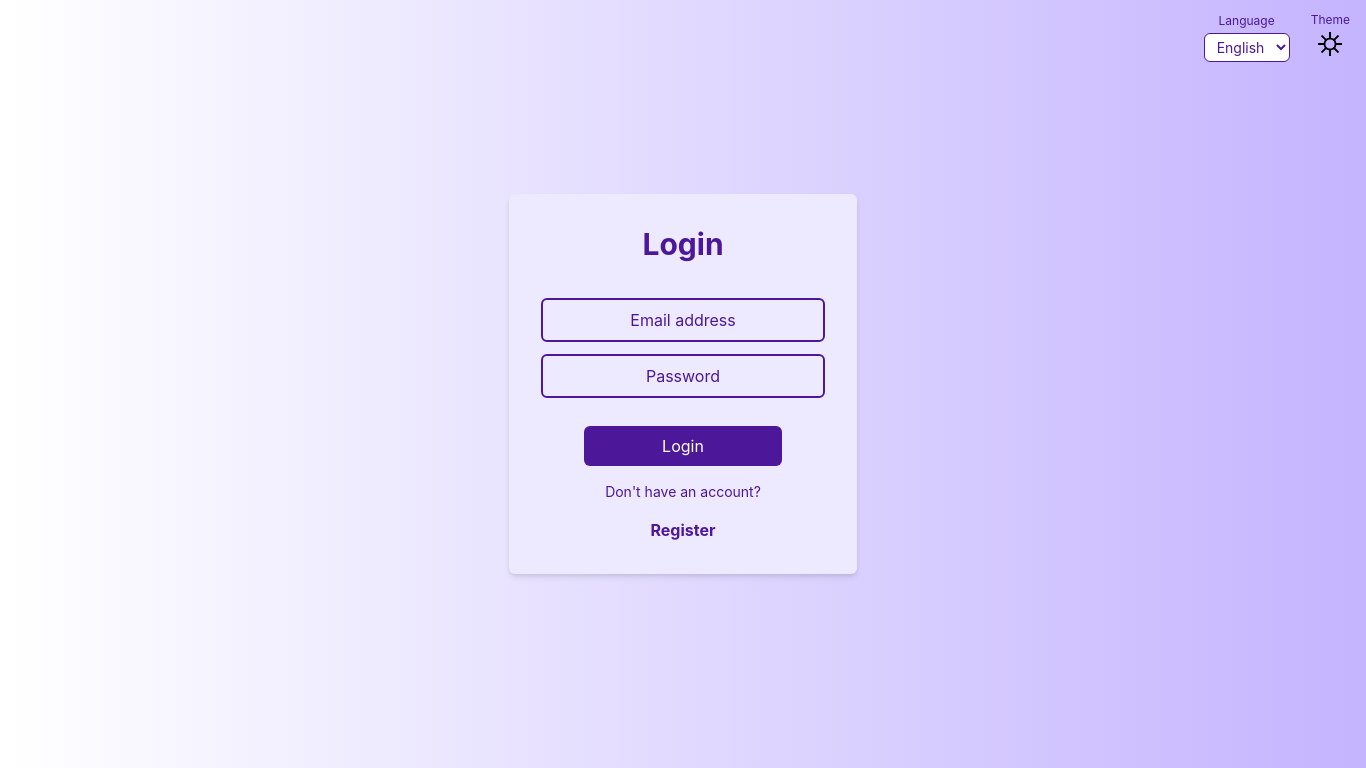
LoginPage tests › error should disappear after changing input values
This screenshot has width=1366, height=768.
Type "test@example.com" into the field with placeholder "Email address" at (683, 320), box top-left (541, 298), bottom-right (825, 342)
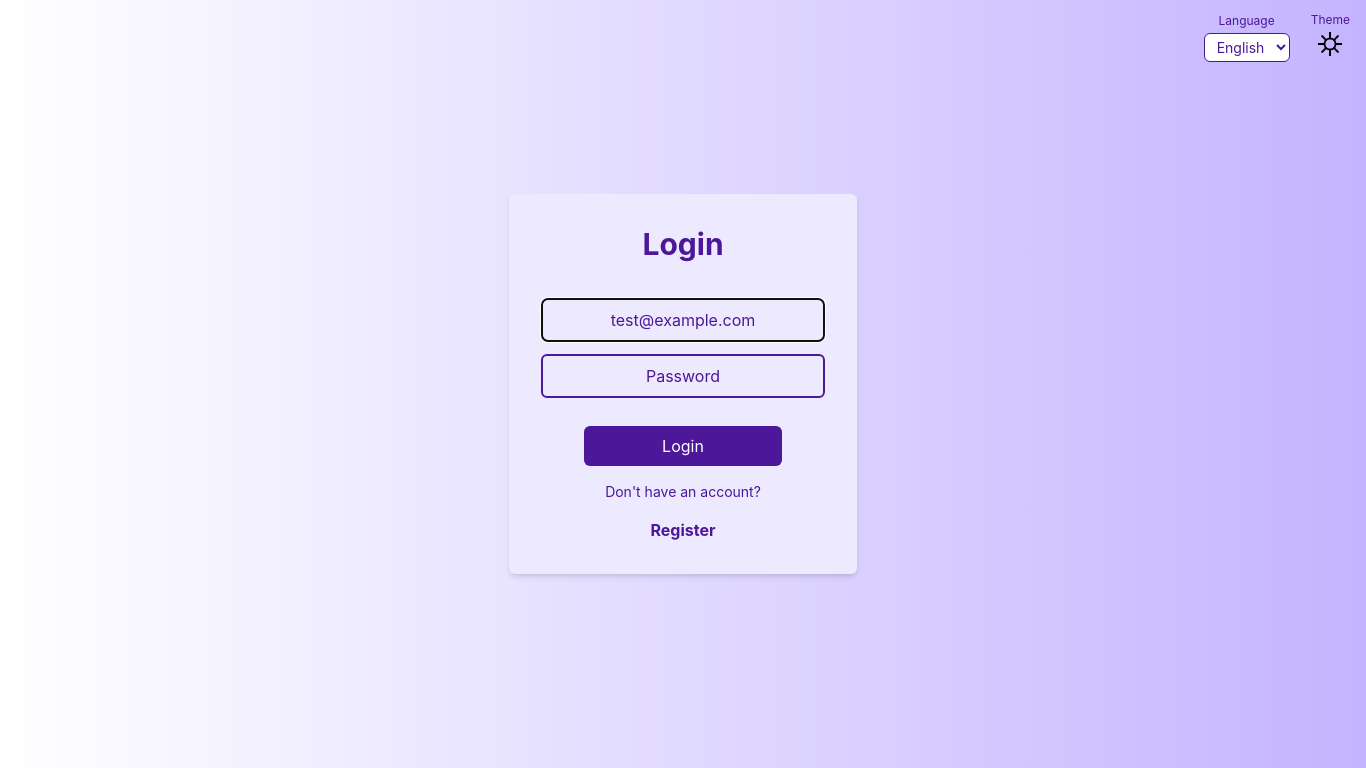
Type "invalidpassword" into the password field with placeholder "Password" at (683, 376), box top-left (541, 354), bottom-right (825, 398)
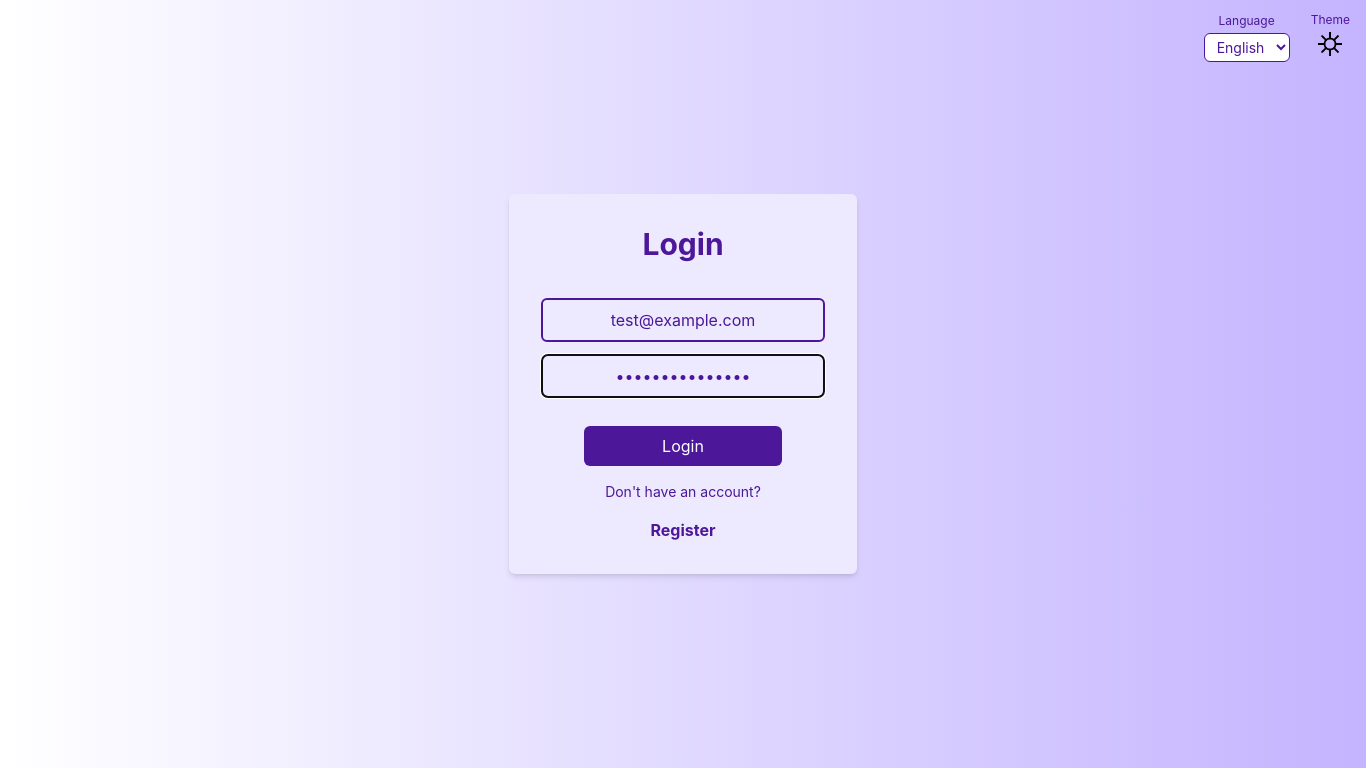
Click the button "Login" at (683, 446), box top-left (584, 426), bottom-right (782, 466)
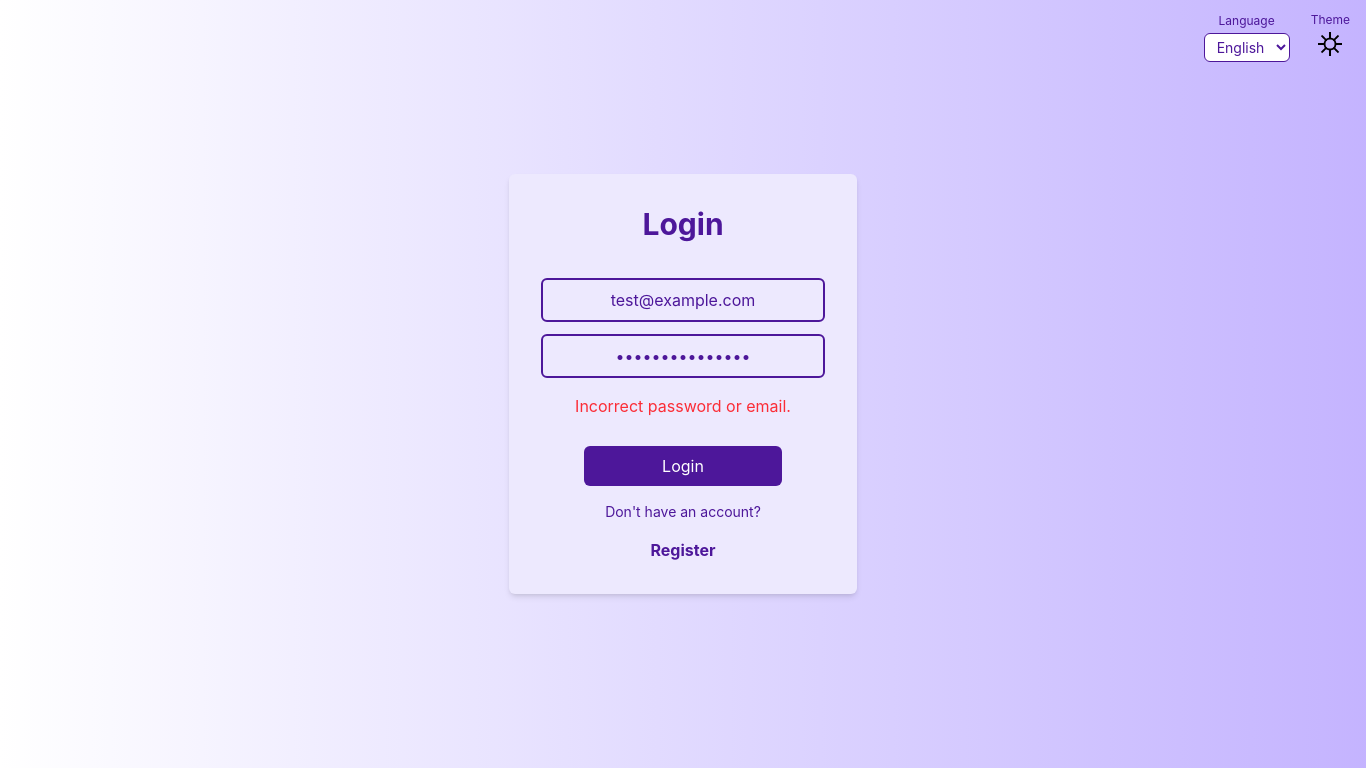
Now the text "Incorrect password or email." is shown, box top-left (575, 396), bottom-right (791, 416)
Type "aaa" into the password field with placeholder "Password" at (683, 356), box top-left (541, 334), bottom-right (825, 378)
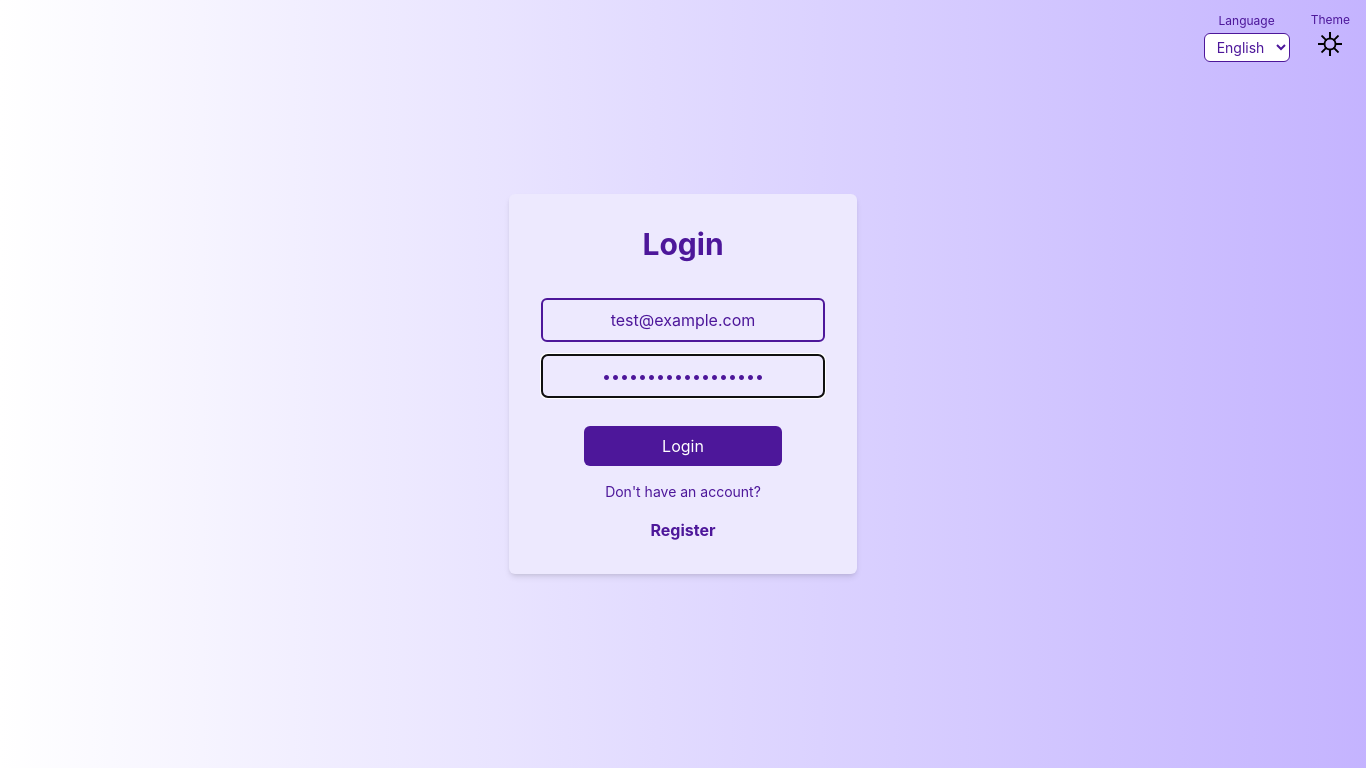
Now the text "Incorrect password or email" is gone
Click the button "Login" at (683, 446), box top-left (584, 426), bottom-right (782, 466)
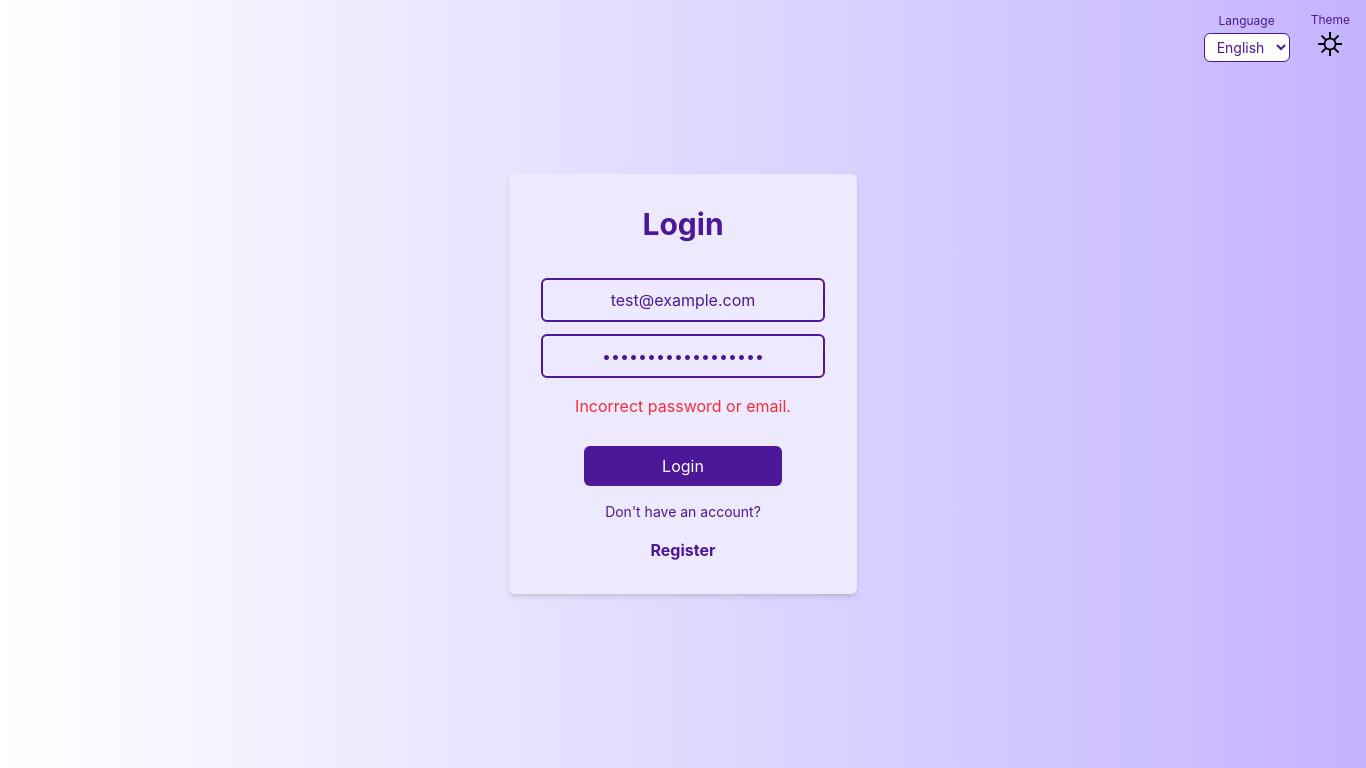
Now the text "Incorrect password or email." is shown, box top-left (575, 396), bottom-right (791, 416)
Type "aaa" into the field with placeholder "Email address" at (683, 300), box top-left (541, 278), bottom-right (825, 322)
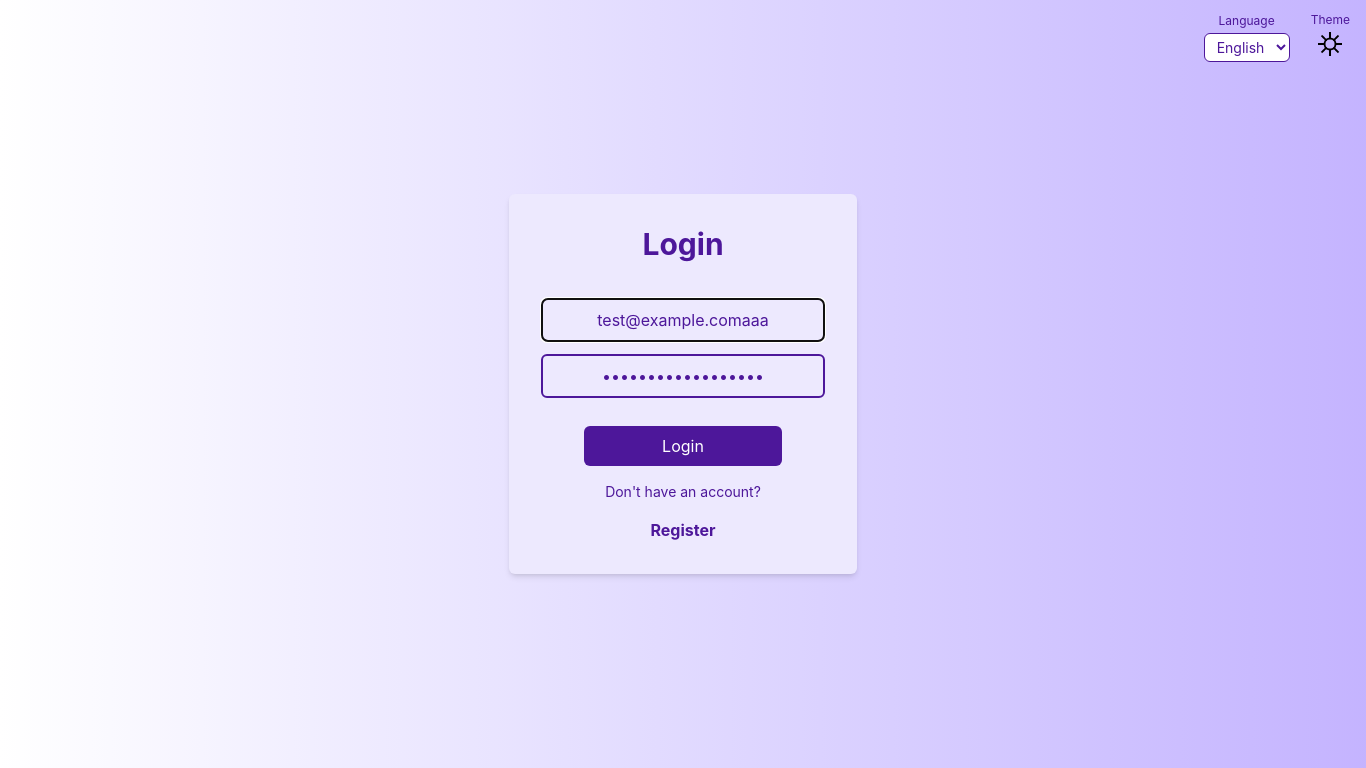
Now the text "Incorrect password or email" is gone
